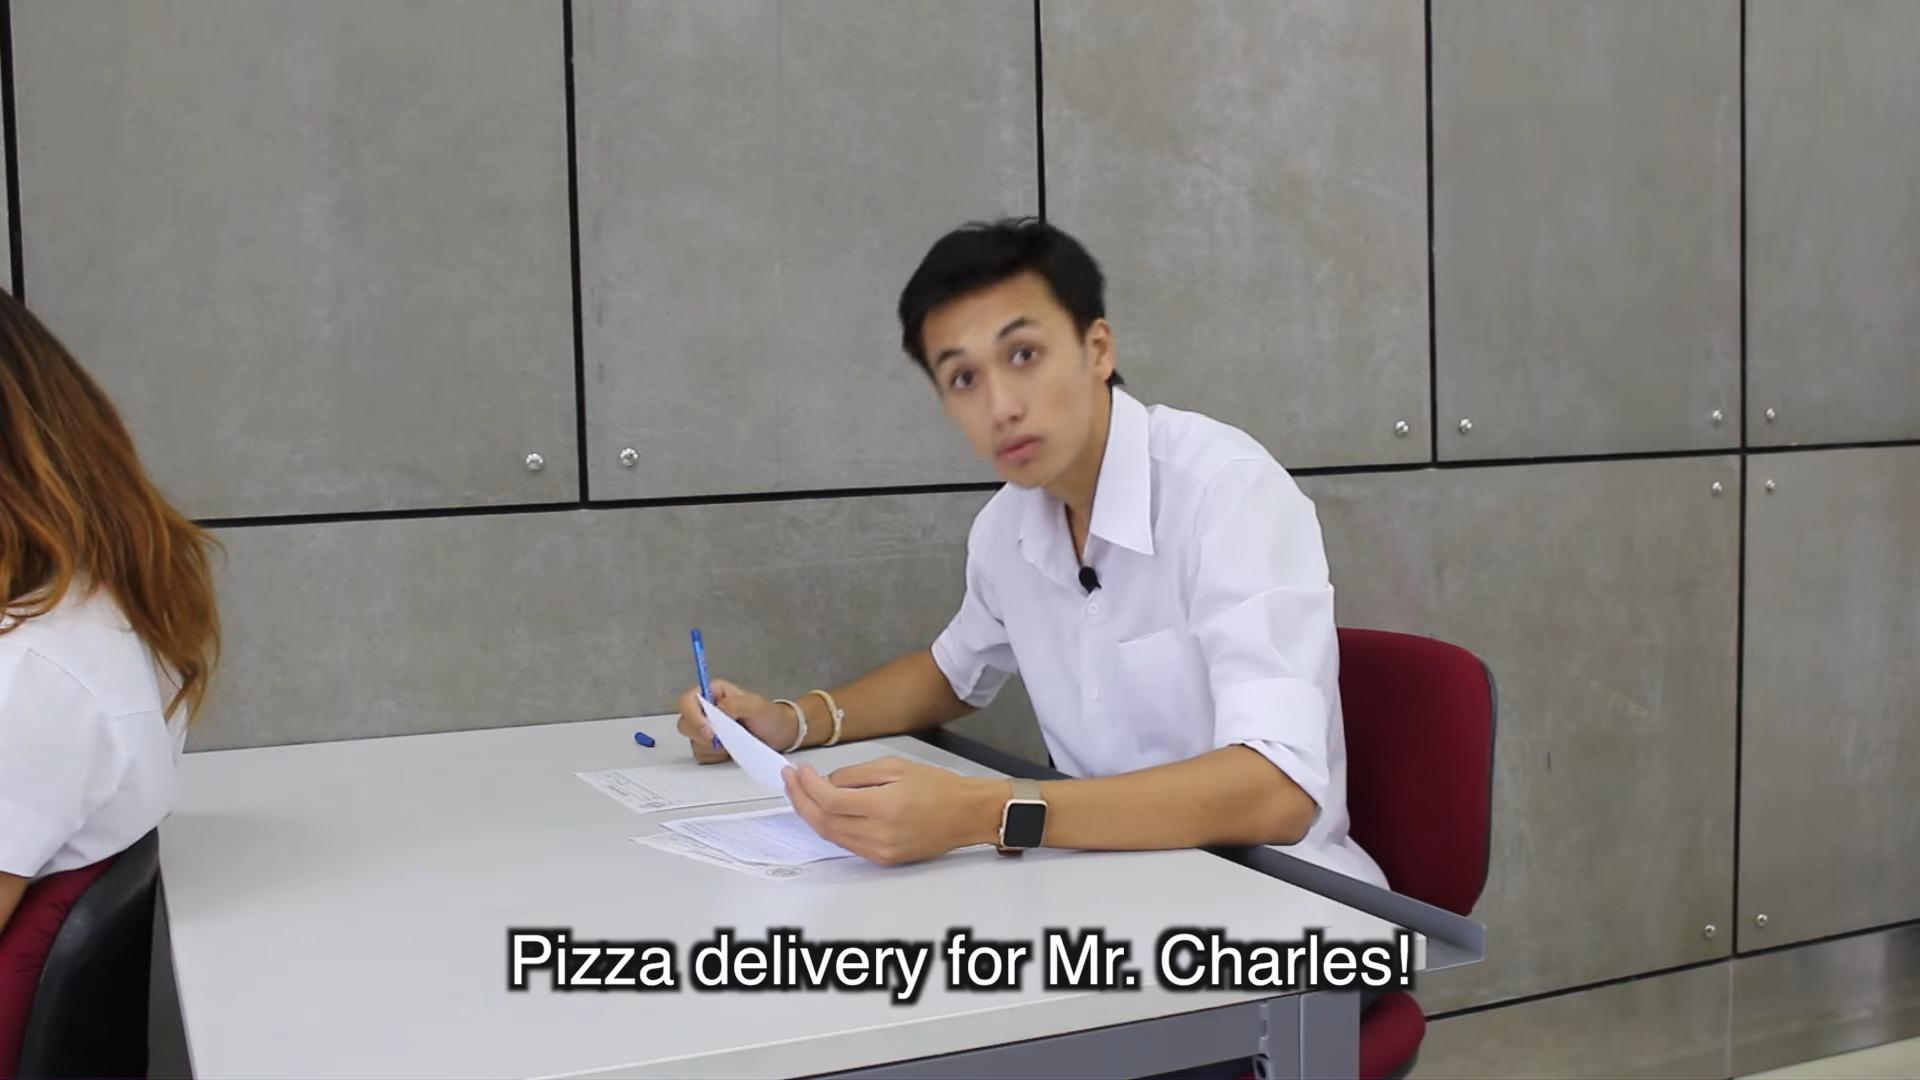cheating: (538, 193, 1411, 902)
